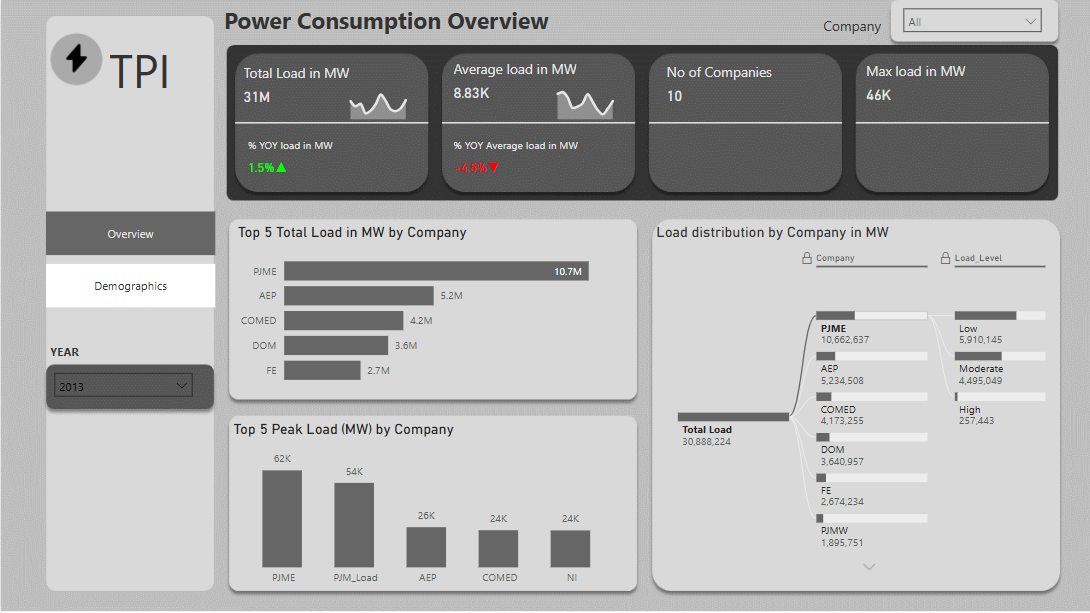

The dashboard page shown, as its layout file describes it:
{"tool":"powerbi","page":{"name":"Page 1","canvas":[1280,720],"ordinal":0},"visuals":[{"type":"slicer","fields":{"Values":["DateTable.Year"]},"box":[997.8,11.3,206,73.7],"z":0},{"type":"cardVisual","fields":{"Data":["Measures Table.Total Load in MW"]},"box":[90.7,75.6,179.5,68],"z":1000},{"type":"card","fields":{"Values":["Measures Table.Report Header 1"]},"box":[0,11.3,761.6,54.8],"z":2000},{"type":"slicer","fields":{"Values":["Energy data.Company"]},"box":[786.1,11.3,198.4,54.8],"z":3000},{"type":"cardVisual","fields":{"Data":["Measures Table.Avg Daily usage"]},"box":[366.6,73.7,206,86.9],"z":4000},{"type":"cardVisual","fields":{"Data":["Measures Table.Average Hourly Usage"]},"box":[638.7,75.6,230.6,86.9],"z":5000},{"type":"cardVisual","fields":{"Data":["Measures Table.Max load"]},"box":[916.5,75.6,209.8,85],"z":6000},{"type":"cardVisual","fields":{"Data":["Measures Table.% YOY load"]},"box":[98.3,126.6,164.4,64.3],"z":7000},{"type":"cardVisual","fields":{"Data":["Measures Table.% YOY Average load"]},"box":[638.7,111.5,168.2,98.3],"z":8000},{"type":"cardVisual","fields":{"Data":["Measures Table.% YOY Average Daily load"]},"box":[366.6,120.9,206,83.2],"z":9000},{"type":"cardVisual","fields":{"Data":["Measures Table.YOY Max load %"]},"box":[914.7,119.1,164.4,85],"z":10000},{"type":"lineStackedColumnComboChart","fields":{"Y":["Measures Table.Avg Daily usage"],"Category":["DateTable.Weekday"],"Y2":["Measures Table.Average Hourly Usage"]},"box":[107.7,196.5,423.3,255.1],"z":11000},{"type":"donutChart","fields":{"Category":["Energy data.IsBusinessHour"],"Y":["Measures Table.Total Load in MW"]},"box":[914.7,200.3,300.5,221.1],"z":12000},{"type":"donutChart","fields":{"Category":["Energy data.IsBusinessHour"],"Y":["Measures Table.Total Load in MW"]},"box":[956.2,412,260.8,221.1],"z":13000},{"type":"lineChart","fields":{"Y":["Measures Table.Total Load in MW"],"Category":["DateTable.Short Month"]},"box":[107.7,478.1,795.6,168.2],"z":14000},{"type":"barChart","fields":{"Category":["Energy data.TimeOfDay"],"Y":["Measures Table.Total Load in MW"]},"box":[546.1,200.3,355.3,251.3],"z":15000},{"type":"textbox","box":[941.1,264.6,173.9,32.1],"z":16000},{"type":"actionButton","box":[30.2,234.3,68,62.4],"z":17000},{"type":"actionButton","box":[30.2,326.9,60.5,111.5],"z":18000},{"type":"textbox","box":[927.9,478.1,211.7,45.4],"z":19000},{"type":"card","fields":{"Values":["Measures Table.Total Load in MW"]},"box":[997.8,491.3,81.3,62.4],"z":20000},{"type":"card","fields":{"Values":["Measures Table.Total Load in MW"]},"box":[984.6,279.7,81.3,62.4],"z":21000},{"type":"textbox","box":[916.5,200.3,321.3,64.3],"z":22000}]}

Visuals, with their boxes in screenshot pixels (x1, y1, x2, y2), scaled from the page's 1280x720 canvas onto the 1090x613 screenshot:
slicer - DateTable.Year: crop(850, 10, 1025, 72)
cardVisual - Measures Table.Total Load in MW: crop(77, 64, 230, 122)
card - Measures Table.Report Header 1: crop(0, 10, 649, 56)
slicer - Energy data.Company: crop(669, 10, 838, 56)
cardVisual - Measures Table.Avg Daily usage: crop(312, 63, 488, 137)
cardVisual - Measures Table.Average Hourly Usage: crop(544, 64, 740, 138)
cardVisual - Measures Table.Max load: crop(780, 64, 959, 137)
cardVisual - Measures Table.% YOY load: crop(84, 108, 224, 163)
cardVisual - Measures Table.% YOY Average load: crop(544, 95, 687, 179)
cardVisual - Measures Table.% YOY Average Daily load: crop(312, 103, 488, 174)
cardVisual - Measures Table.YOY Max load %: crop(779, 101, 919, 174)
lineStackedColumnComboChart - Measures Table.Avg Daily usage x DateTable.Weekday: crop(92, 167, 452, 384)
donutChart - Energy data.IsBusinessHour x Measures Table.Total Load in MW: crop(779, 171, 1035, 359)
donutChart - Energy data.IsBusinessHour x Measures Table.Total Load in MW: crop(814, 351, 1036, 539)
lineChart - Measures Table.Total Load in MW x DateTable.Short Month: crop(92, 407, 769, 550)
barChart - Energy data.TimeOfDay x Measures Table.Total Load in MW: crop(465, 171, 768, 384)
textbox: crop(801, 225, 949, 253)
actionButton: crop(26, 199, 84, 253)
actionButton: crop(26, 278, 77, 373)
textbox: crop(790, 407, 970, 446)
card - Measures Table.Total Load in MW: crop(850, 418, 919, 471)
card - Measures Table.Total Load in MW: crop(838, 238, 908, 291)
textbox: crop(780, 171, 1054, 225)
